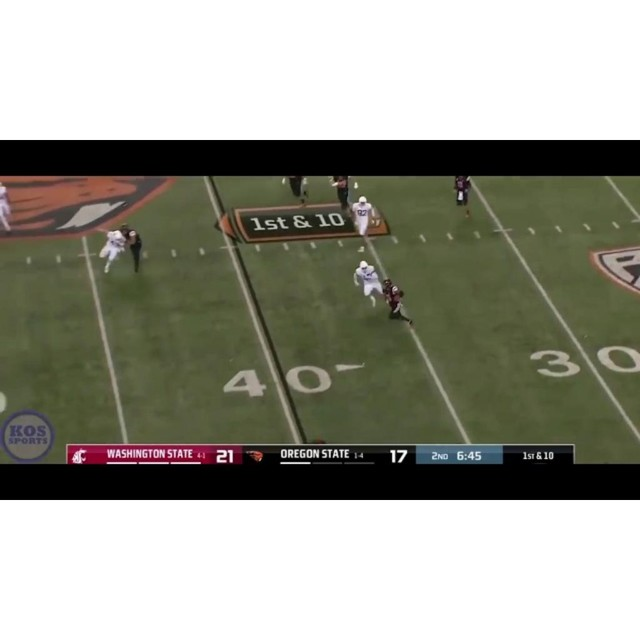american-football-player: (349, 195, 376, 254), (99, 224, 129, 275), (354, 260, 384, 309), (383, 278, 413, 325), (121, 223, 145, 275), (453, 176, 473, 220), (282, 177, 310, 208), (329, 176, 351, 214)
